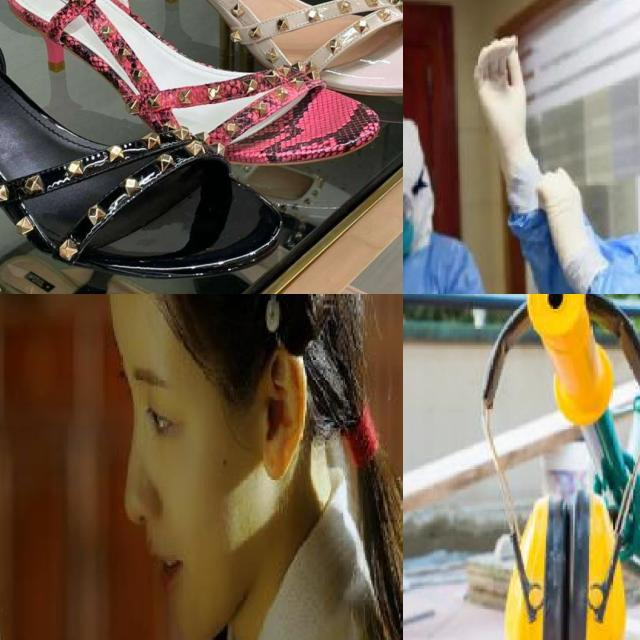Ear-protection: (474, 299, 640, 640)
No_Ear-Protection: (253, 344, 310, 486)
No_Glasses: (118, 365, 219, 460)
Sandals: (0, 0, 294, 294), (0, 0, 397, 189), (121, 0, 403, 120)
face_mask: (520, 0, 640, 294), (403, 96, 500, 294), (403, 188, 420, 253)
face_nomask: (90, 305, 245, 631)
glasses: (403, 186, 417, 229)
hand_glove: (472, 35, 536, 147), (535, 168, 594, 262)
person: (52, 294, 403, 640)
